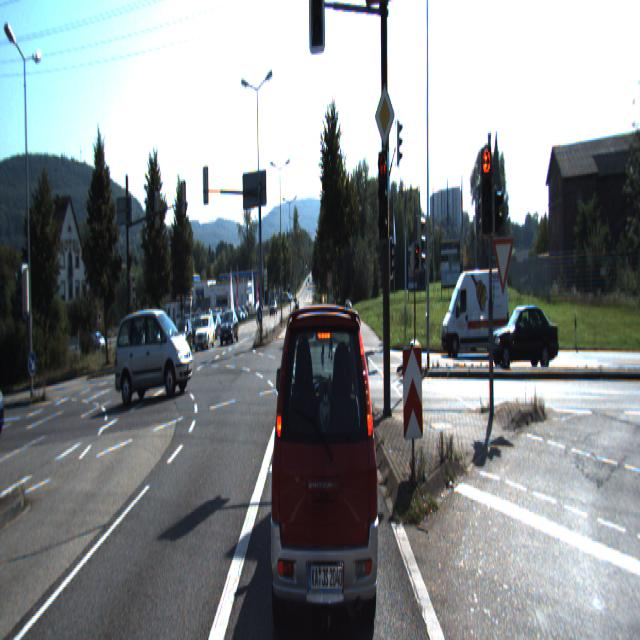Car: (267, 280, 381, 638), (114, 311, 196, 406), (441, 260, 509, 354), (488, 298, 559, 373), (195, 316, 215, 350), (172, 321, 192, 355), (219, 309, 239, 343)
